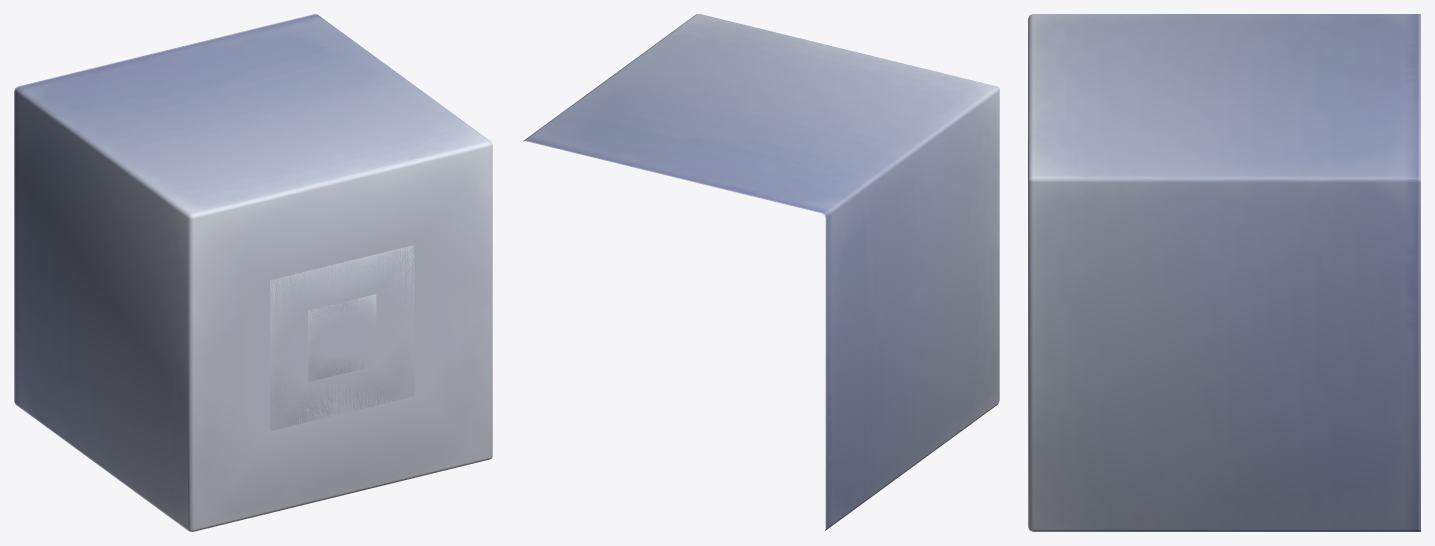
Rendered from blox floating.glb.
The picture shows the model from 3 angles, left to right: view 1: azimuth 30°, elevation 25°; view 2: azimuth 150°, elevation 25°; view 3: azimuth 270°, elevation 25°; orthographic projection. The views are drawn at different scales.
Visible parts, largest first — view 1: whitespace.blocks_floating_set-MeshSets[block_x4].Mesh[0], whitespace.blocks_floating_set-MeshSets[block_x2].Mesh[0], whitespace.blocks_floating_set-MeshSets[block_x1].Mesh[0]; view 2: whitespace.blocks_floating_set-MeshSets[block_x4].Mesh[0]; view 3: whitespace.blocks_floating_set-MeshSets[block_x4].Mesh[0].
Part boxes in pixels (box(x1,y1,x2,y2)): whitespace.blocks_floating_set-MeshSets[block_x4].Mesh[0]: box(14, 14, 492, 531); whitespace.blocks_floating_set-MeshSets[block_x2].Mesh[0]: box(270, 245, 414, 431); whitespace.blocks_floating_set-MeshSets[block_x1].Mesh[0]: box(308, 294, 376, 381); whitespace.blocks_floating_set-MeshSets[block_x4].Mesh[0]: box(523, 14, 999, 530); whitespace.blocks_floating_set-MeshSets[block_x4].Mesh[0]: box(1028, 14, 1420, 531).
Bounding box in the file's own units: 4 × 4 × 4.
Materials: 1 (1 with a texture image).
